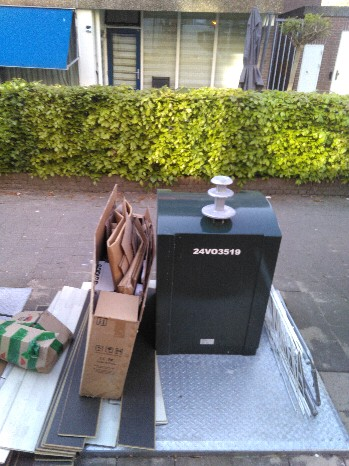Container: (153, 185, 263, 360)
Papier: (79, 209, 150, 383)
Rest: (4, 296, 83, 461), (266, 311, 320, 396)
